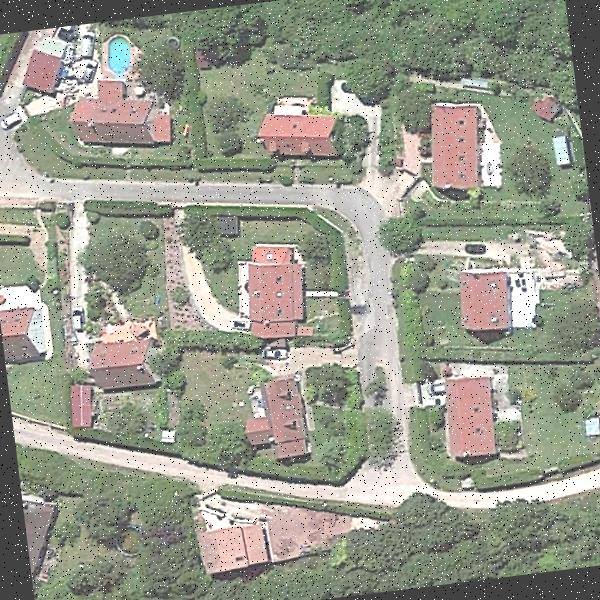Buildings: (196, 503, 341, 570), (74, 72, 164, 154), (230, 243, 312, 329), (240, 374, 316, 459), (423, 102, 496, 189), (451, 263, 534, 332), (441, 378, 507, 461), (251, 106, 337, 160), (69, 338, 157, 389), (0, 306, 41, 357)
